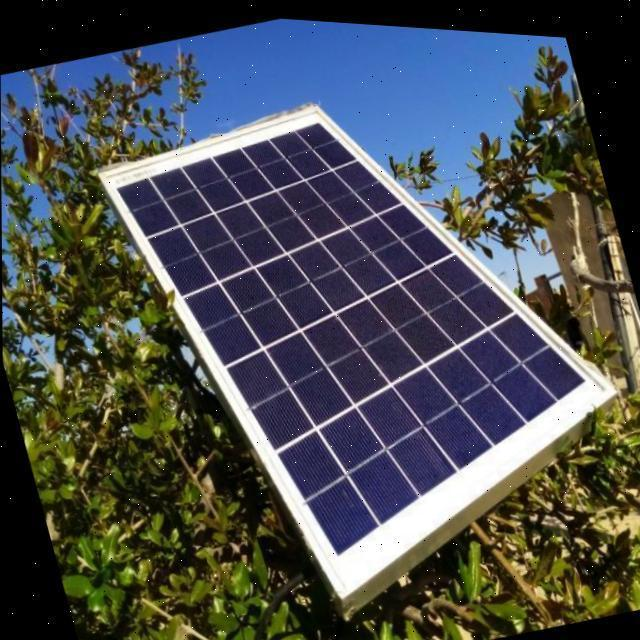Normal Solar Panel: (90, 29, 640, 640)
